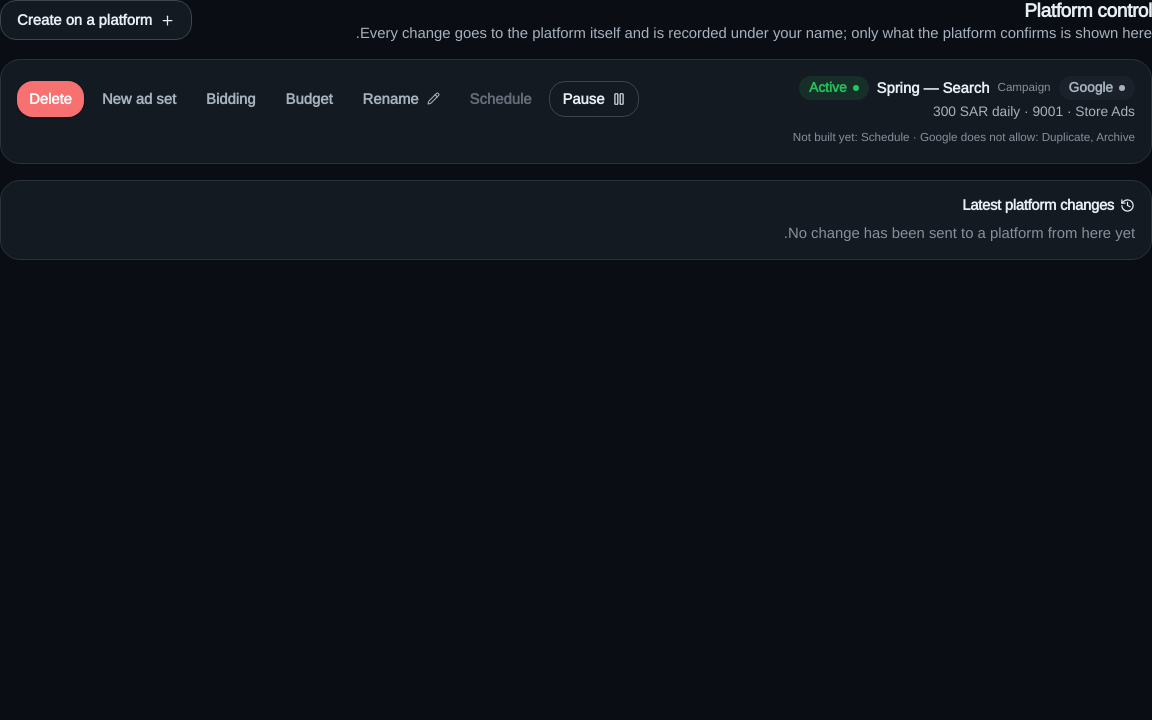
Scenario: the campaign control panel › shows the platform’s refusal in its own words
Click the button with test id "control-budget-e1".
click(309, 99)  # box [274,81,344,117]
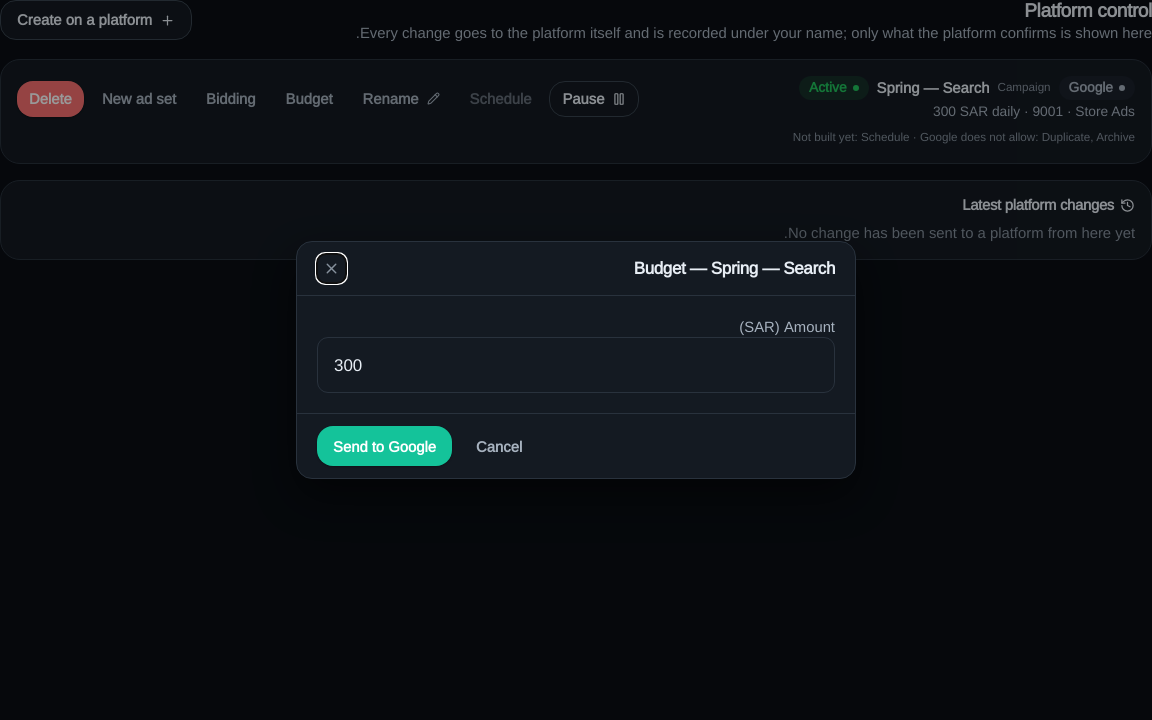
Replace the text in the number field with test id "control-input-amount" with "1" at (576, 365), box [317,337,835,393]
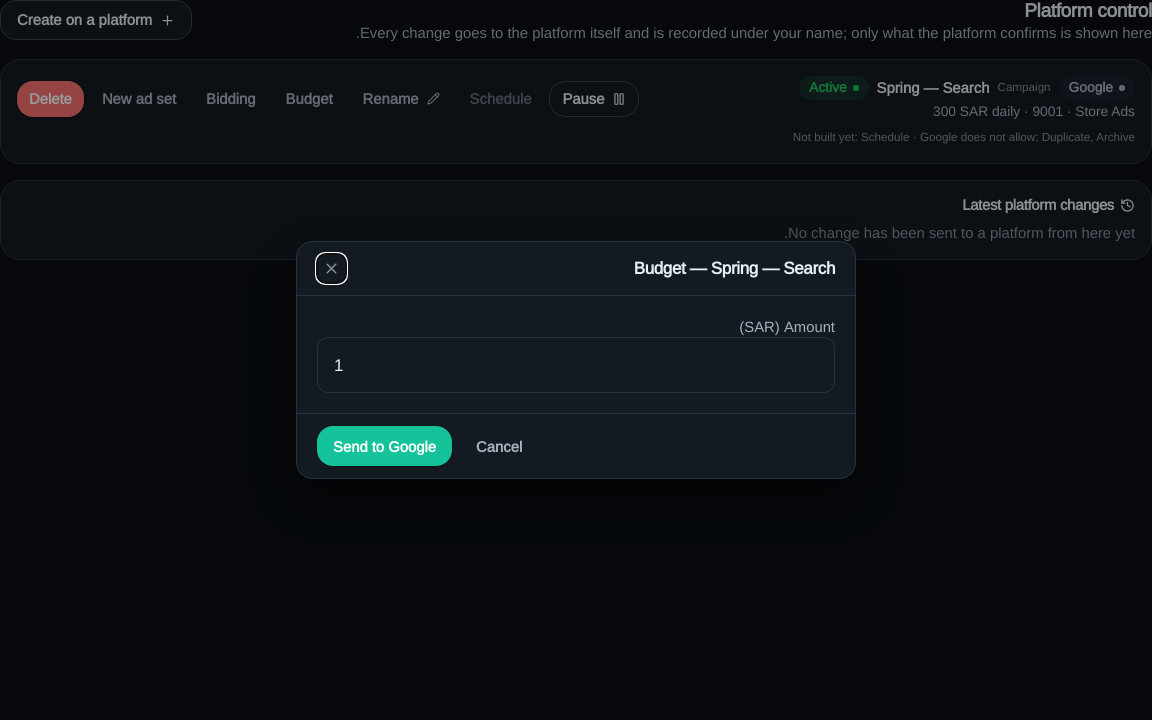
Click the button with test id "control-dialog-submit".
click(385, 446)  # box [317,426,452,466]
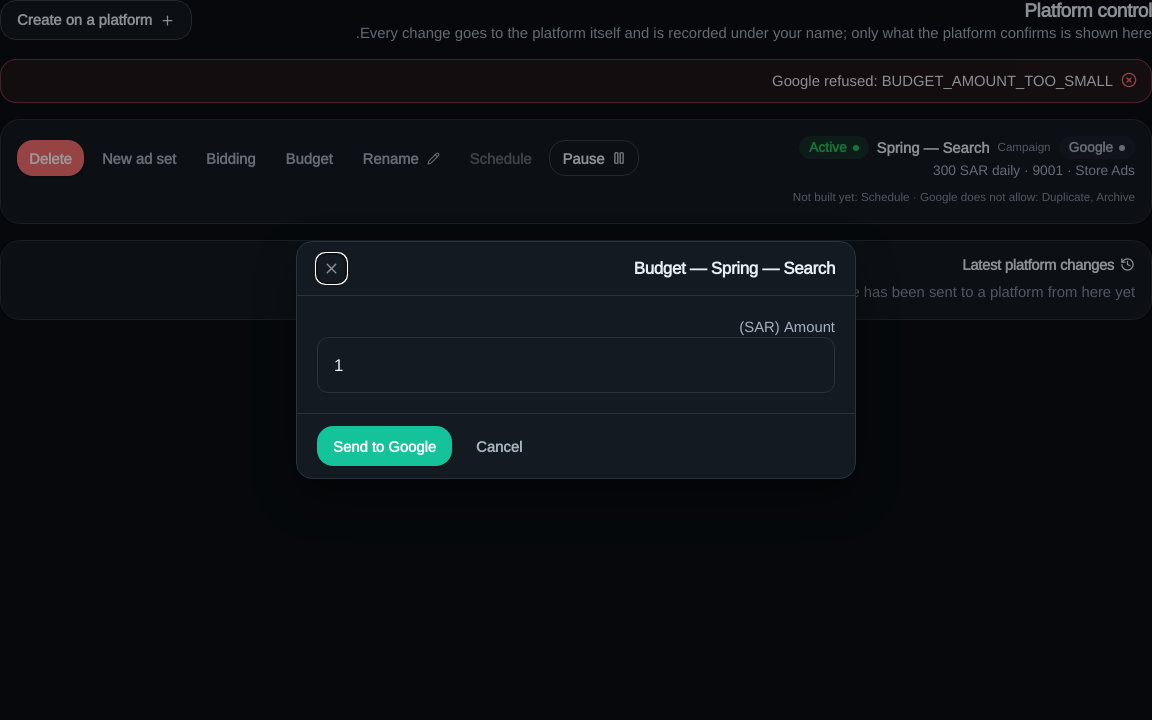
Expected: the message with test id "control-banner" reads "Google refused: BUDGET_AMOUNT_TOO_SMALL", [772,72,1113,89]
